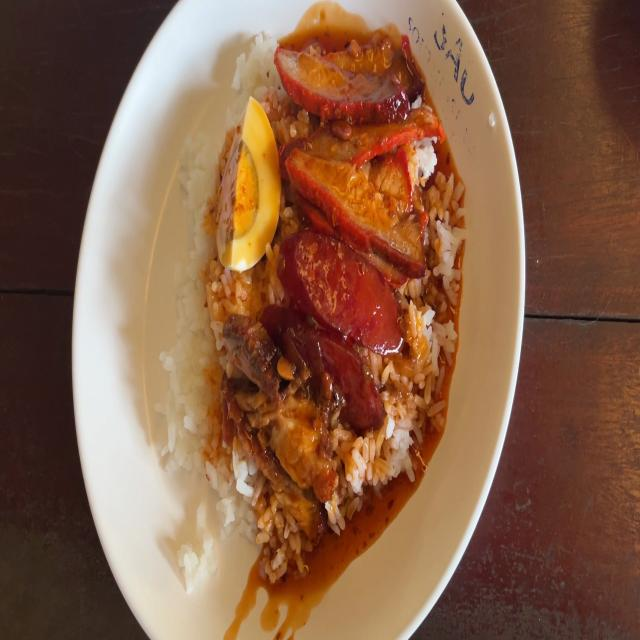red_pork_and_crispy_pork: (224, 109, 278, 265)
stir_fried_basil: (275, 234, 408, 420)
